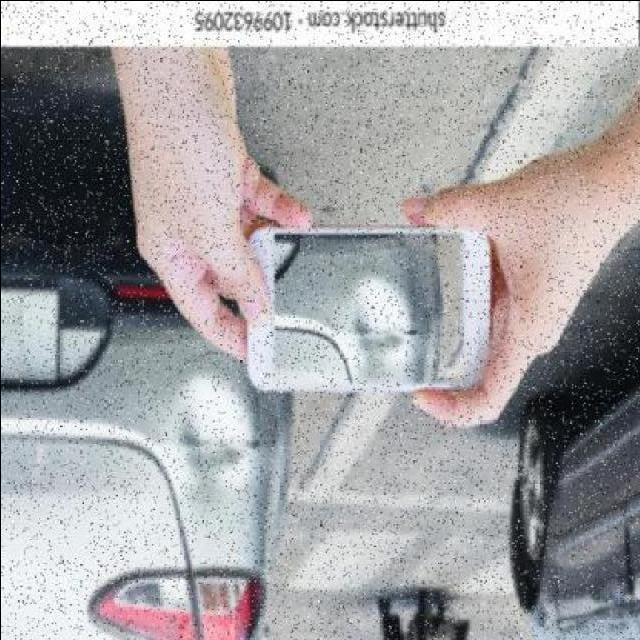rear-bumper-dent: (95, 250, 295, 574)
